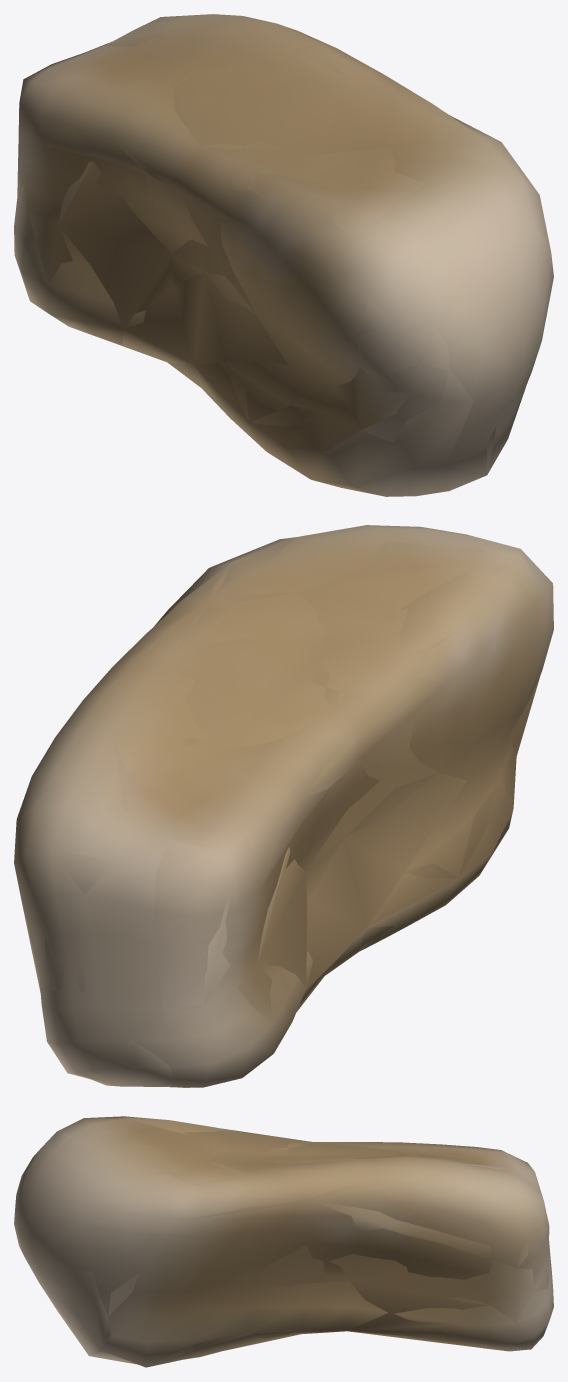
Rendered from L carpi intermedium.fbx.
The picture shows the model from 3 angles, top to bottom: view 1: azimuth 30°, elevation 25°; view 2: azimuth 150°, elevation 25°; view 3: azimuth 270°, elevation 25°; orthographic projection. The views are drawn at different scales.
Visible parts, largest first — view 1: L carpi intermedium, L carpi intermedium low; view 2: L carpi intermedium, L carpi intermedium low; view 3: L carpi intermedium, L carpi intermedium low.
Part boxes in pixels (x1,y1,x2,y2): L carpi intermedium: (14,14,553,496); L carpi intermedium low: (17,20,550,496); L carpi intermedium: (14,525,553,1087); L carpi intermedium low: (18,535,553,1087); L carpi intermedium: (14,1116,553,1367); L carpi intermedium low: (50,1118,551,1367).
Size of the model in its own units: 2.28 by 2.48 by 5.71.
